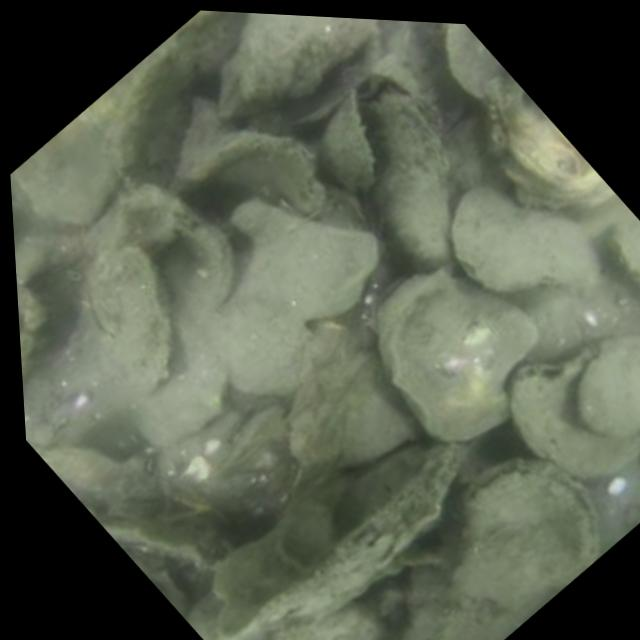Oyster-Closed: (455, 459, 599, 600)
Oyster-Indeterminate: (202, 442, 470, 640), (372, 268, 543, 443), (446, 174, 609, 304), (85, 171, 240, 307), (354, 88, 454, 275), (212, 13, 382, 119), (507, 351, 640, 483), (228, 196, 373, 317), (492, 81, 619, 209), (84, 247, 172, 406), (178, 128, 330, 216), (12, 115, 116, 225), (576, 334, 640, 441), (446, 23, 507, 97), (268, 601, 382, 640)
